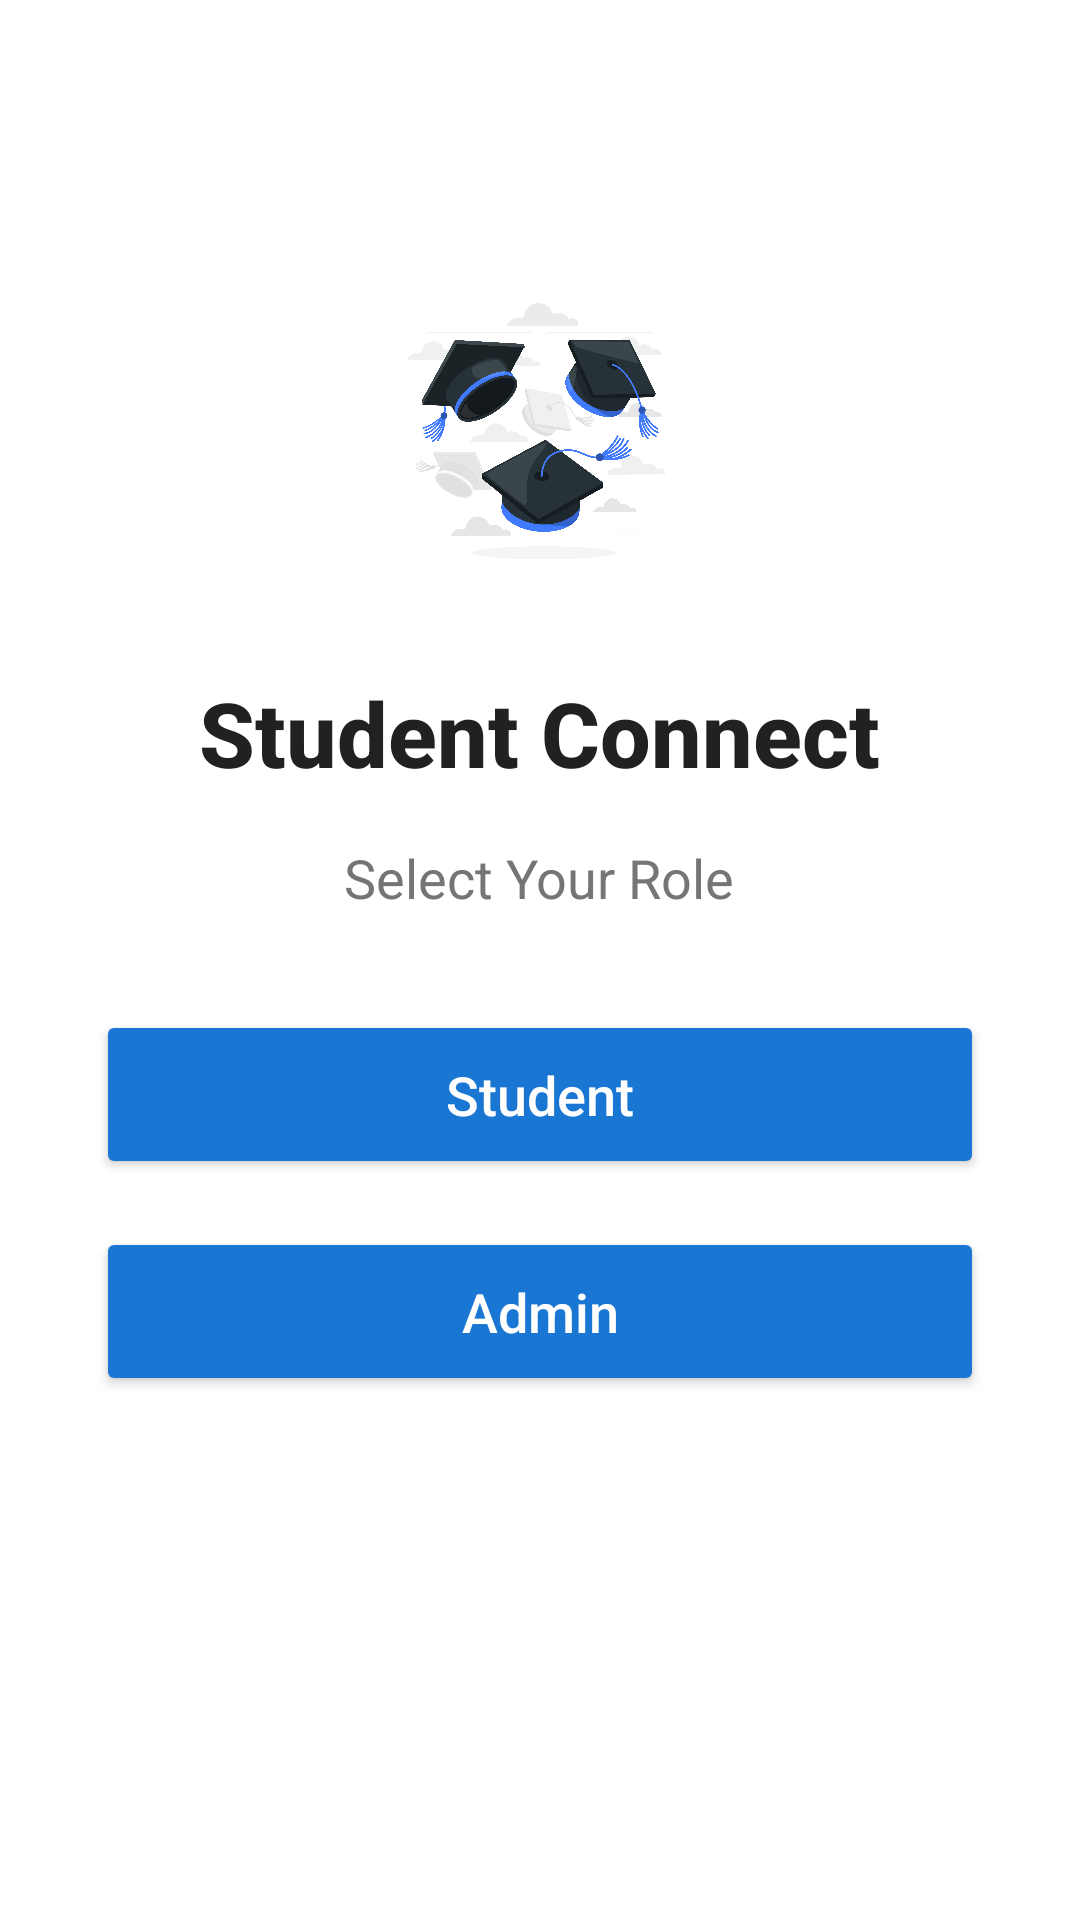

Locate icon controls on the screen. Image size 1080×1920, boxes as {"left": x1, "top": y1, "right": x2, "bottom": y2}.
graduation cap: {"left": 416, "top": 340, "right": 662, "bottom": 536}
